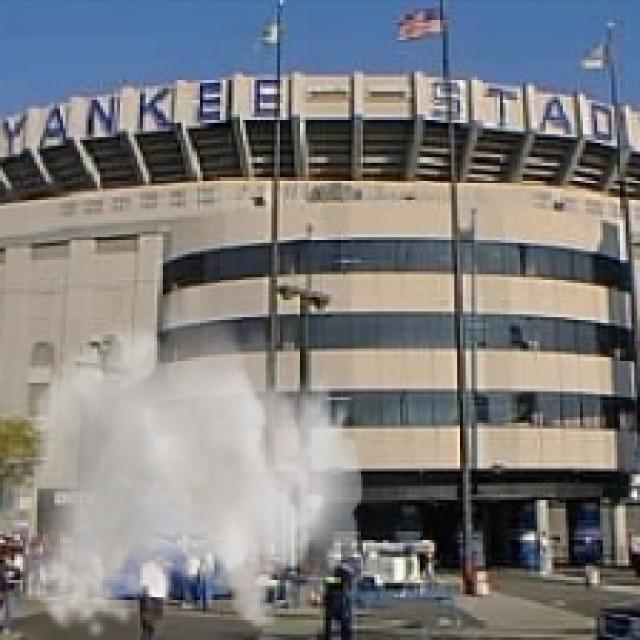smoke: (17, 277, 366, 637)
